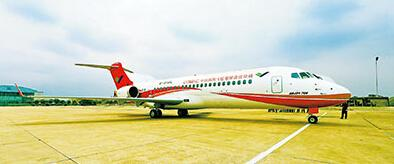airplane: (13, 54, 367, 116)
